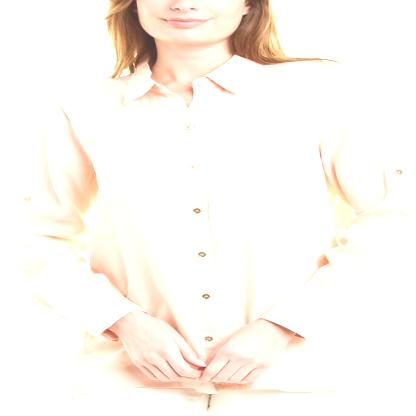dress: (1, 55, 416, 395)
